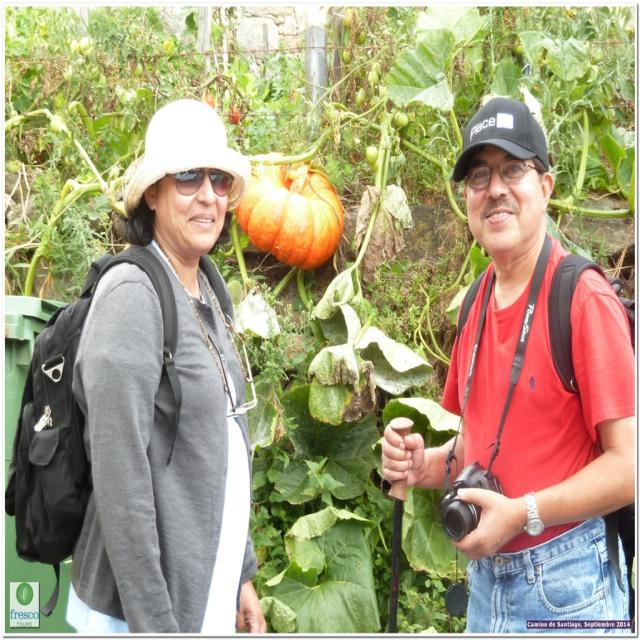Person: (64, 100, 268, 636)
